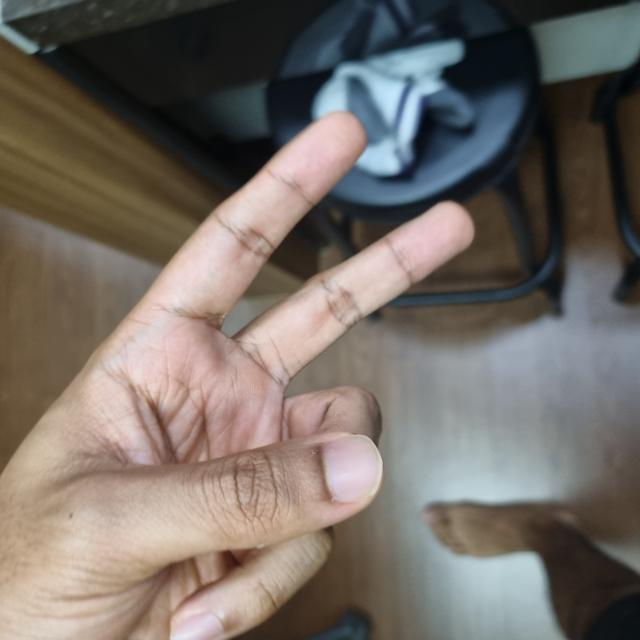Scissors: (1, 6, 522, 468)
